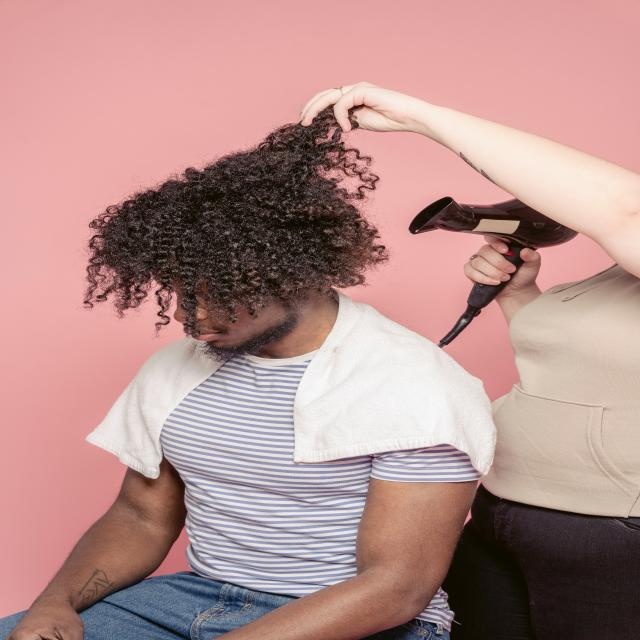dryer: (407, 194, 579, 345)
